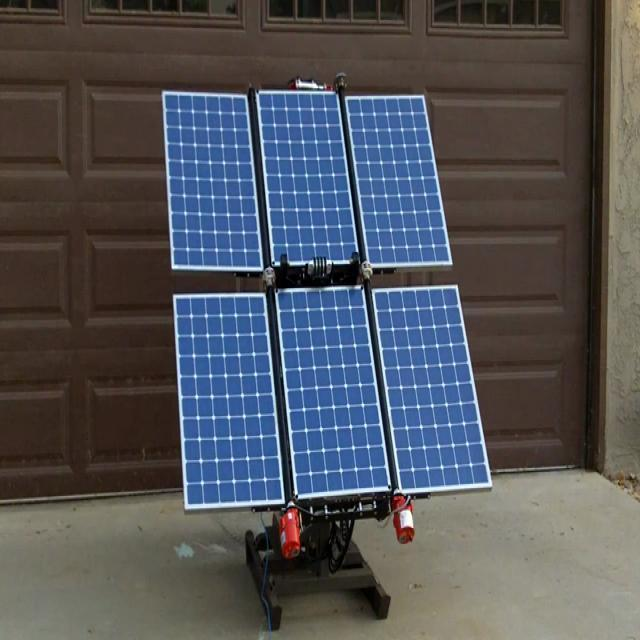Normal Solar Panel: (277, 290, 391, 497), (376, 289, 491, 491), (175, 295, 283, 509), (348, 96, 452, 268), (164, 91, 262, 271), (258, 91, 358, 263)
